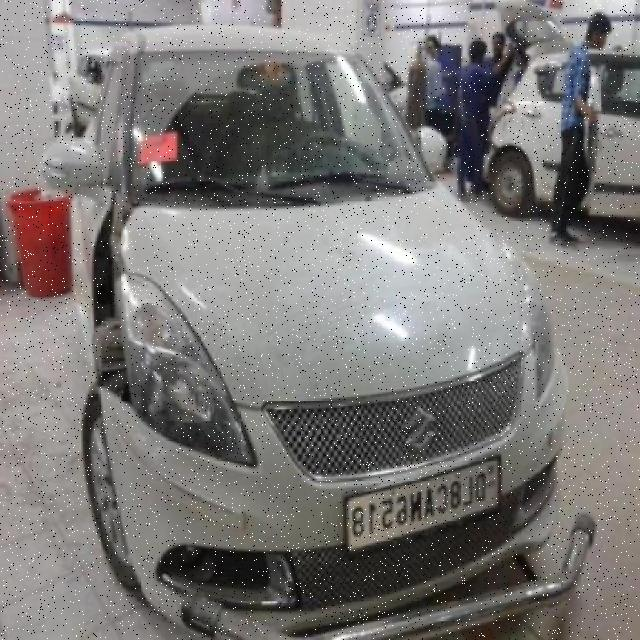damage: (90, 197, 130, 401)
